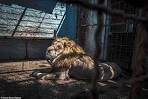lion: (45, 35, 120, 86)
